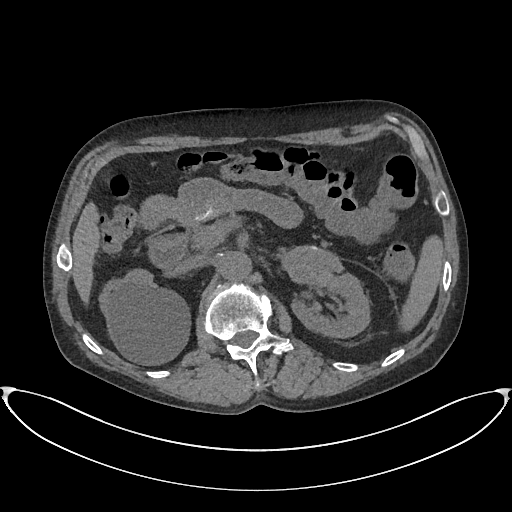Lesion: (277, 246, 346, 290)
